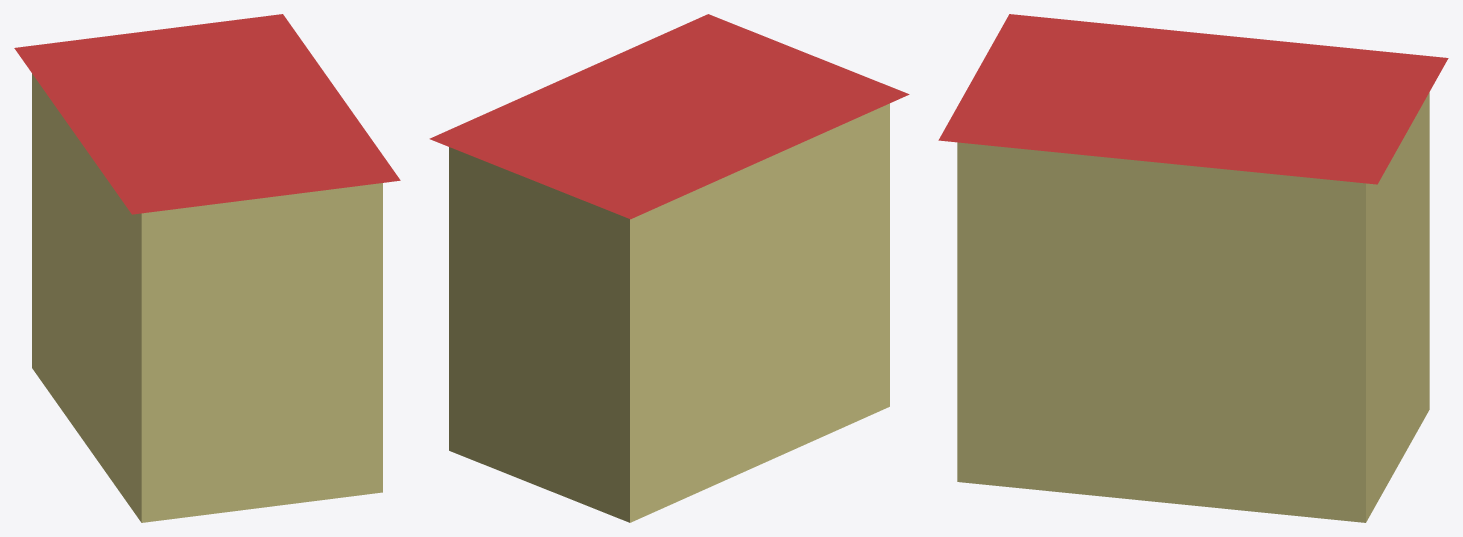
3 renders of one model, left to right at view 1: azimuth 30°, elevation 25°; view 2: azimuth 150°, elevation 25°; view 3: azimuth 270°, elevation 25°, orthographic. The views are drawn at different scales.
Bounding box in the file's own units: 6.45 × 8.16 × 6.11.
